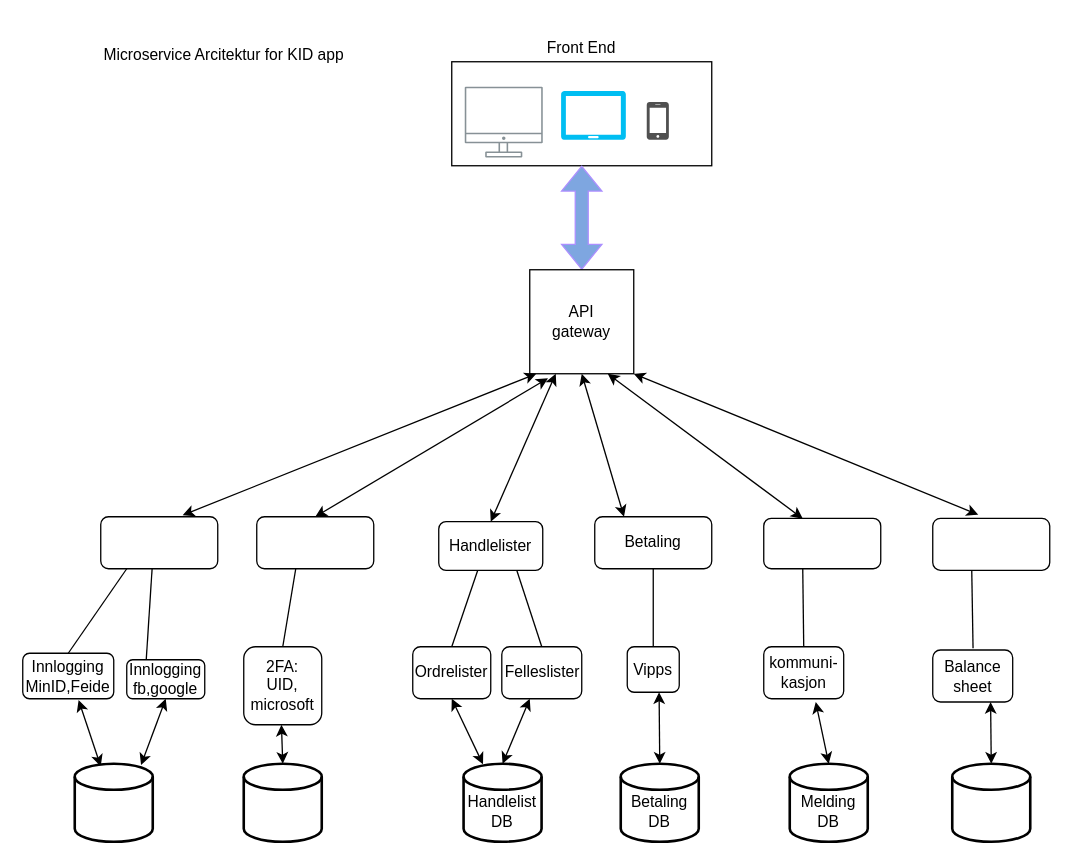
The diagram is 1073 pixels wide and 864 high, and some of its shapes have lost their labels. The centre of each missing label's shape, as x and y in pixels:
"Authentikasjon" goes at point (314, 542).
"Data Base" goes at point (282, 802).
"Direktemeldinger" goes at point (821, 543).
"Finance DB" goes at point (990, 802).
"Profile DB" goes at point (113, 802).
"Registrasjon" goes at point (158, 542).
"Sluttoppgjør" goes at point (990, 543).
